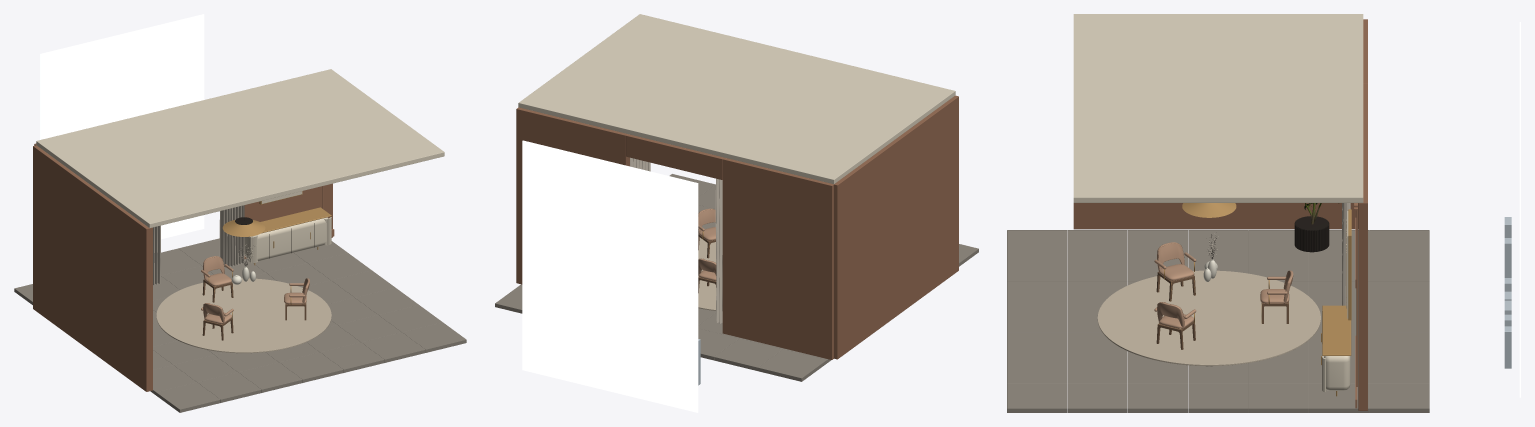
Rendered from salon-interior.glb.
3 renders of one model, left to right at view 1: azimuth 30°, elevation 25°; view 2: azimuth 150°, elevation 25°; view 3: azimuth 270°, elevation 25°, orthographic. The views are drawn at different scales.
Parts seen in each view (by area): view 1: Ceiling, Left return, Distant daylight, Circular woven rug, Rounded credenza, Panelled wall.001, Honed stone floor tile, Tailored curtain.001, Honed stone floor tile.021, Honed stone floor tile.007, Honed stone floor tile.014, Honed stone floor tile.028 (+25 smaller); view 2: Distant daylight, Ceiling, Left return, Panelled wall, Panelled wall.001, Window lintel, Honed stone floor tile.006, Honed stone floor tile.013, Tailored curtain, Circular woven rug, Honed stone floor tile.020, Honed stone floor tile.048; view 3: Ceiling, Circular woven rug, Left return, Panelled wall.001, Honed stone floor tile.042, Honed stone floor tile.043, Honed stone floor tile.045, Honed stone floor tile.046, Honed stone floor tile.048, Honed stone floor tile.044, Honed stone floor tile.013, Honed stone floor tile.027 (+38 smaller).
Part boxes in pixels (left/top/right/bottom): Ceiling: left=36, top=69, right=444, bottom=227; Left return: left=33, top=145, right=152, bottom=391; Distant daylight: left=40, top=14, right=204, bottom=239; Circular woven rug: left=156, top=278, right=331, bottom=353; Rounded credenza: left=244, top=217, right=328, bottom=261; Panelled wall.001: left=244, top=183, right=332, bottom=258; Honed stone floor tile: left=156, top=382, right=220, bottom=412; Tailored curtain.001: left=219, top=205, right=244, bottom=267; Honed stone floor tile.021: left=279, top=352, right=343, bottom=382; Honed stone floor tile.007: left=197, top=372, right=261, bottom=402; Honed stone floor tile.014: left=238, top=362, right=302, bottom=392; Honed stone floor tile.028: left=320, top=342, right=384, bottom=372; Distant daylight: left=522, top=140, right=698, bottom=412; Ceiling: left=518, top=14, right=955, bottom=184; Left return: left=834, top=95, right=958, bottom=359; Panelled wall: left=722, top=157, right=833, bottom=359; Panelled wall.001: left=516, top=107, right=629, bottom=284; Window lintel: left=626, top=134, right=723, bottom=179; Honed stone floor tile.006: left=758, top=349, right=826, bottom=381; Honed stone floor tile.013: left=714, top=338, right=782, bottom=370; Tailored curtain: left=715, top=178, right=722, bottom=323; Circular woven rug: left=698, top=237, right=716, bottom=310; Honed stone floor tile.020: left=698, top=328, right=738, bottom=360; Honed stone floor tile.048: left=495, top=285, right=522, bottom=313; Ceiling: left=1073, top=14, right=1363, bottom=202; Circular woven rug: left=1097, top=270, right=1320, bottom=366; Left return: left=1073, top=203, right=1358, bottom=229; Panelled wall.001: left=1358, top=139, right=1367, bottom=410; Honed stone floor tile.042: left=1007, top=383, right=1067, bottom=412; Honed stone floor tile.043: left=1067, top=383, right=1127, bottom=412; Honed stone floor tile.045: left=1188, top=383, right=1248, bottom=412; Honed stone floor tile.046: left=1248, top=383, right=1308, bottom=412; Honed stone floor tile.048: left=1369, top=383, right=1429, bottom=412; Honed stone floor tile.044: left=1128, top=383, right=1187, bottom=412; Honed stone floor tile.013: left=1369, top=255, right=1429, bottom=281; Honed stone floor tile.027: left=1369, top=306, right=1429, bottom=332.
Size of the model in its own units: 7.28 by 5 by 8.51.
Materials: 18 (2 with a texture image).
